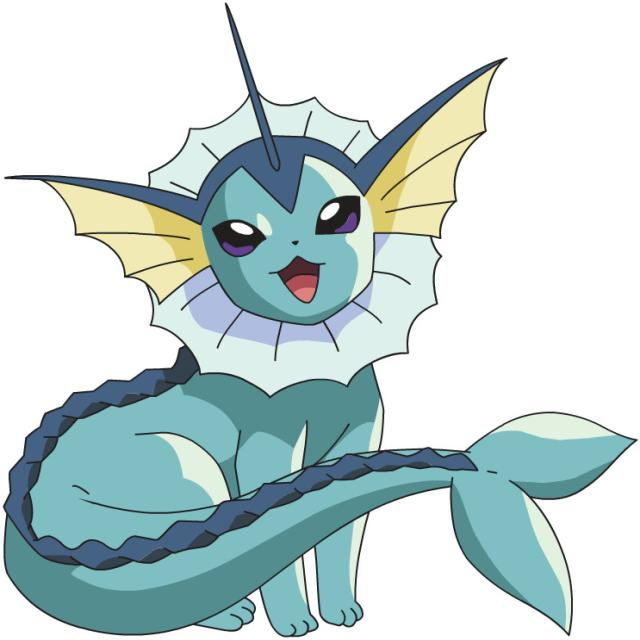Vaporeon: (10, 52, 515, 640)
